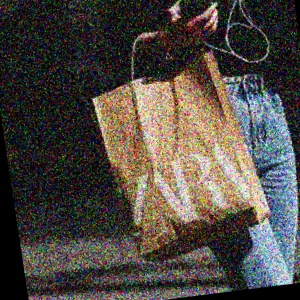zara: (188, 43, 300, 235)
